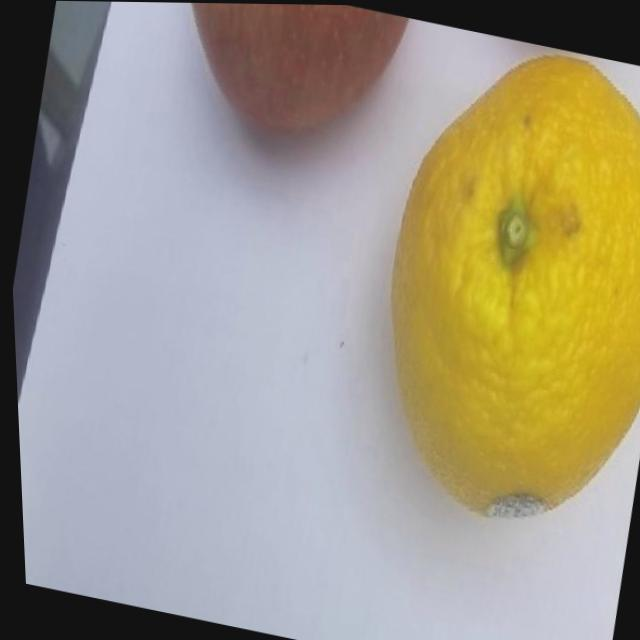Apple: (161, 2, 416, 158)
Orange: (339, 24, 640, 544)
